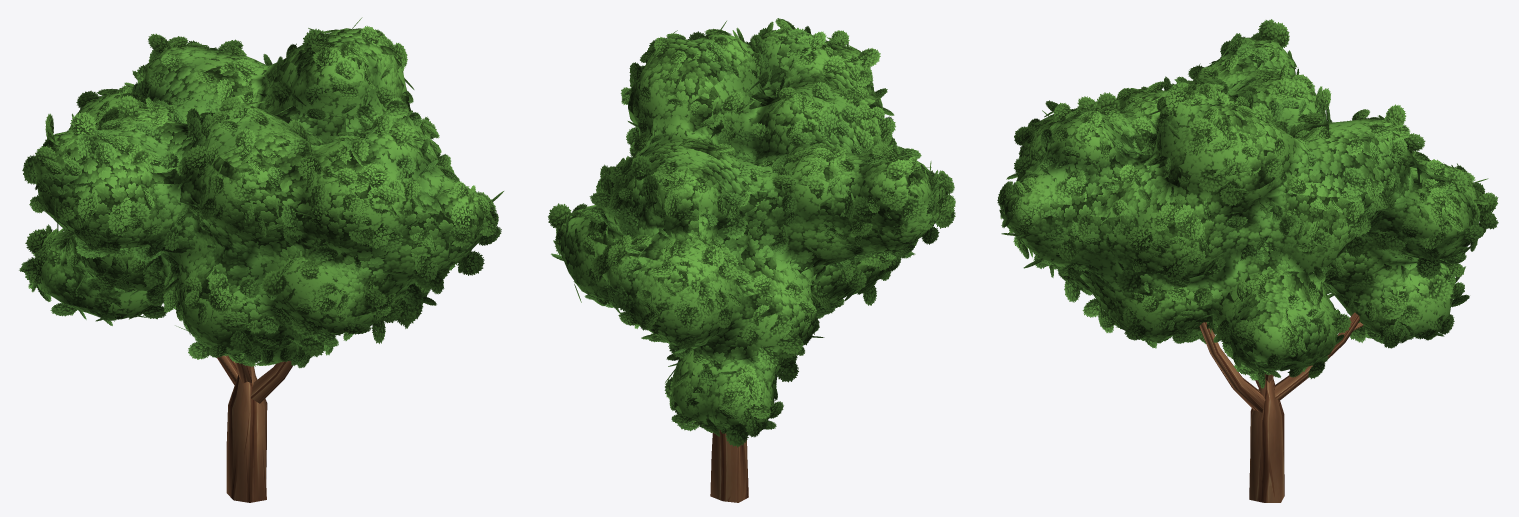
File: bush1_v2.glb
3 renders of one model, left to right at view 1: azimuth 30°, elevation 25°; view 2: azimuth 150°, elevation 25°; view 3: azimuth 270°, elevation 25°, orthographic. The views are drawn at different scales.
Visible parts, largest first — view 1: bush1_v2_volume_LOD0, bush1_v2_leaves_LOD0, bush1_v2_trunk_LOD0; view 2: bush1_v2_volume_LOD0, bush1_v2_leaves_LOD0, bush1_v2_trunk_LOD0; view 3: bush1_v2_volume_LOD0, bush1_v2_leaves_LOD0, bush1_v2_trunk_LOD0.
Boxes of the visible parts, x1,y1,x2,y2 form: bush1_v2_volume_LOD0: (32,28,492,362); bush1_v2_leaves_LOD0: (19,17,503,368); bush1_v2_trunk_LOD0: (217,355,292,502); bush1_v2_volume_LOD0: (559,30,945,430); bush1_v2_leaves_LOD0: (548,18,955,447); bush1_v2_trunk_LOD0: (710,429,748,502); bush1_v2_volume_LOD0: (1004,40,1480,369); bush1_v2_leaves_LOD0: (997,19,1498,388); bush1_v2_trunk_LOD0: (1199,312,1363,502).
Size of what is drawn, in the model's own units: 1.49 by 1.62 by 1.71.
Materials: 3 (3 with a texture image).
